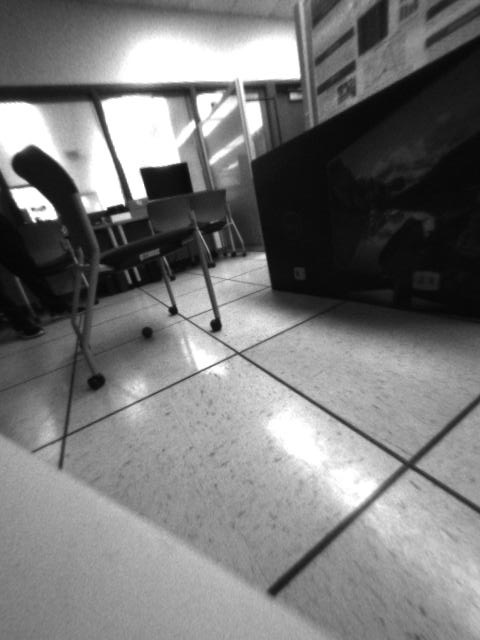dogtoy: (134, 321, 159, 343)
